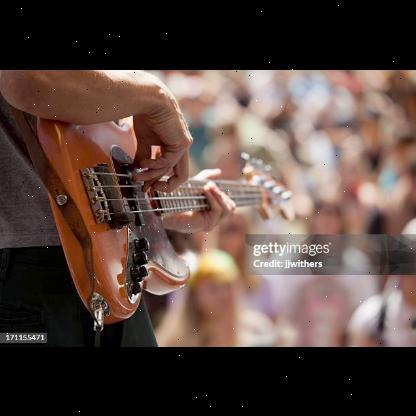bass: (30, 112, 292, 324)
